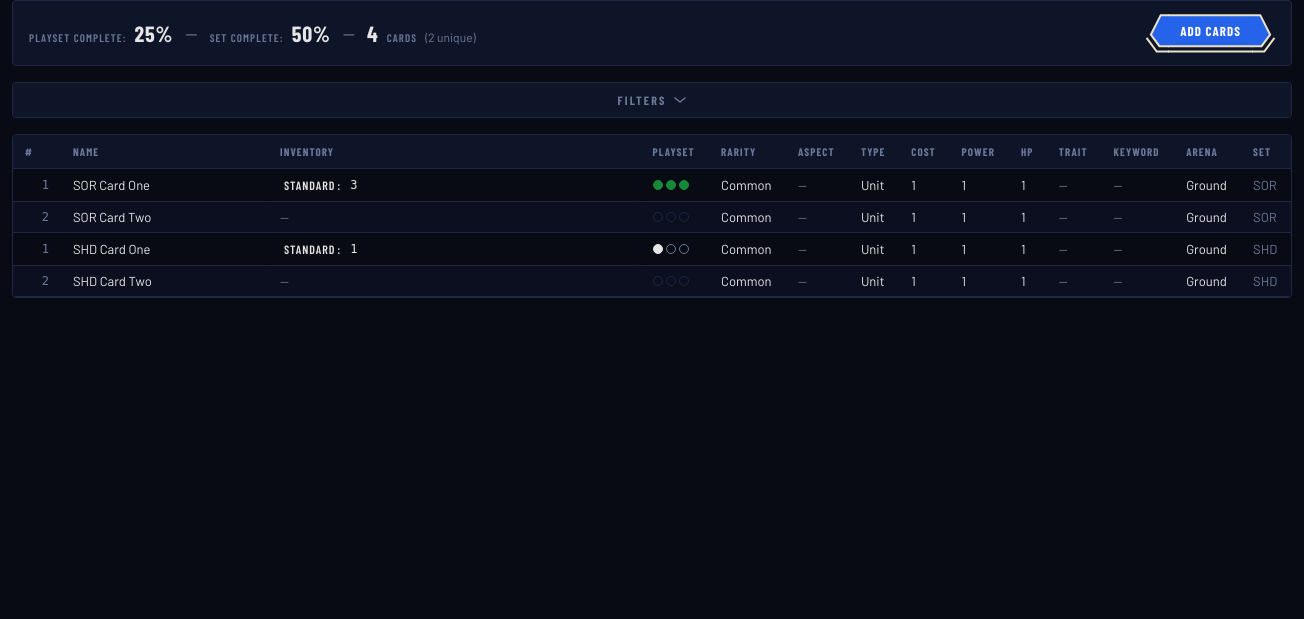
Test case: InventoryPage summary stats › updates stats when the Set filter narrows to one set
What coordinates should you click on to do the following:
click the button "Filters"
I would click on:
 (652, 100)
Its box is top-left (13, 83), bottom-right (1291, 117).
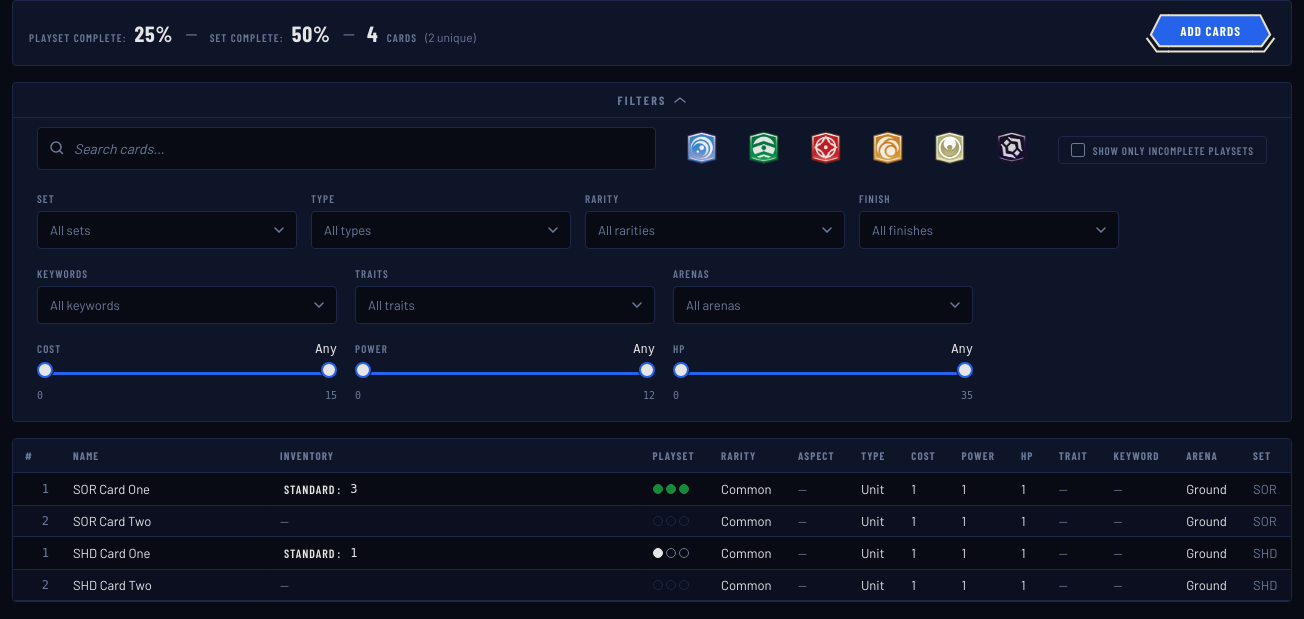
What coordinates should you click on to do the following:
click the button "All sets"
I would click on:
 (70, 230)
Its box is top-left (37, 211), bottom-right (297, 249).
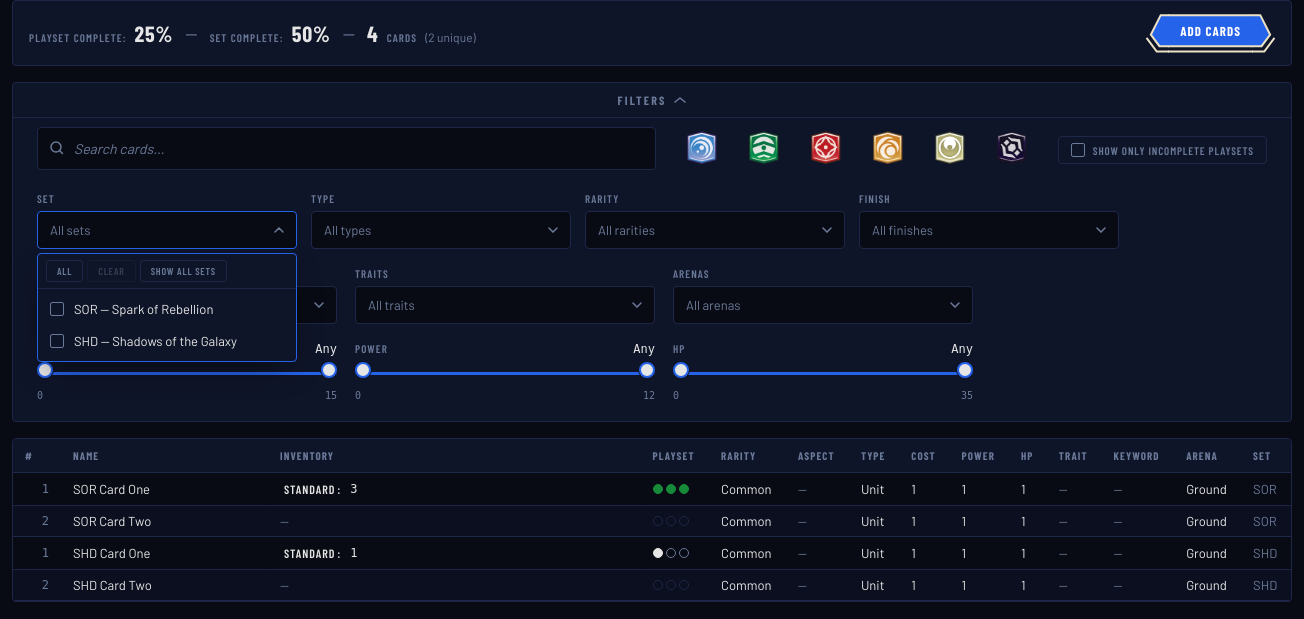
What coordinates should you click on to do the following:
click the option "SOR — Spark of Rebellion"
I would click on:
 (167, 309)
Its box is top-left (38, 293), bottom-right (296, 325).
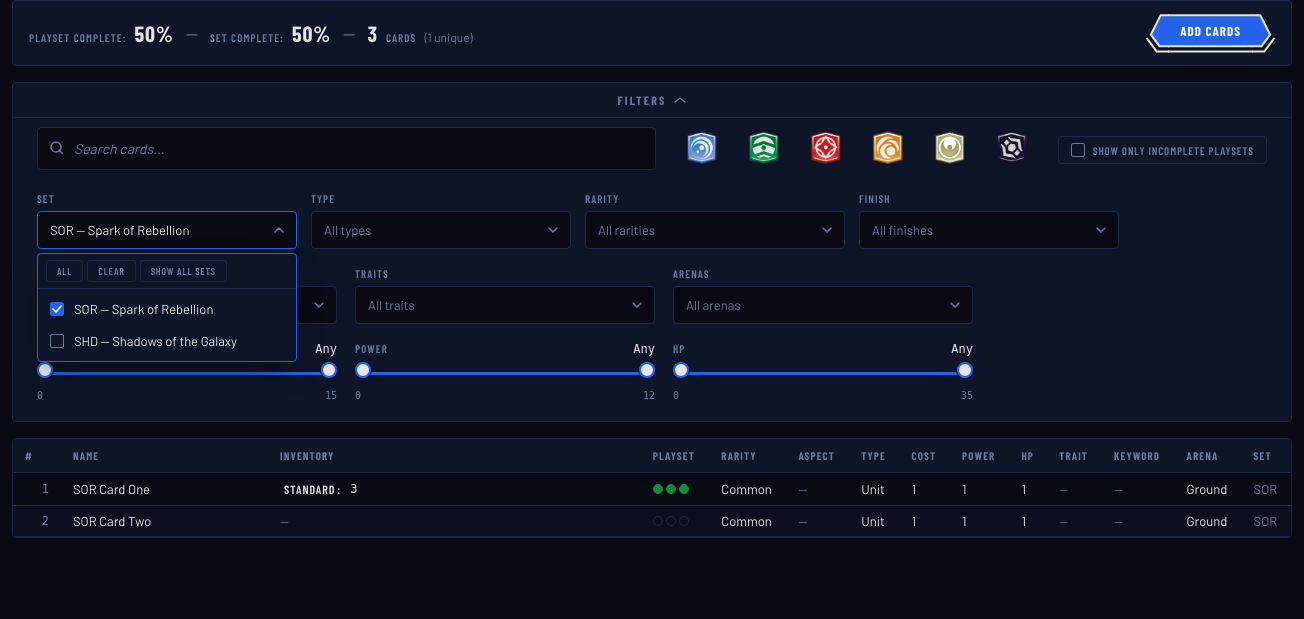
Expected: the text with class "inv-summary__sub" reads "(1 unique)", top-left (424, 30), bottom-right (473, 44)
